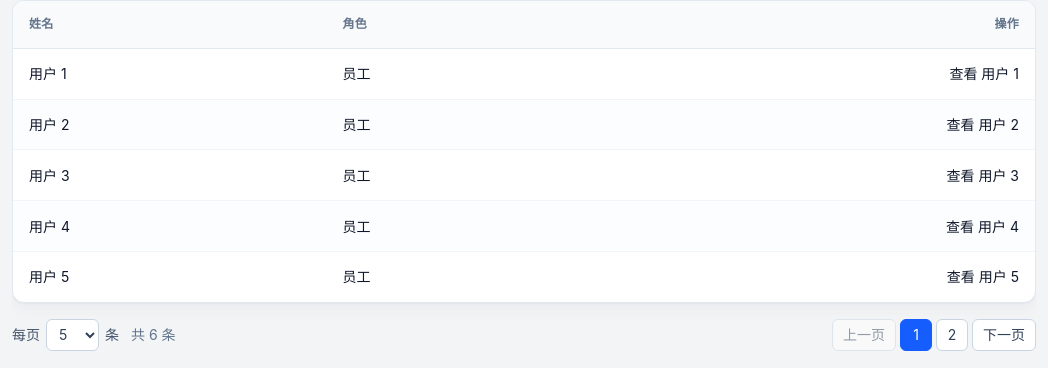
Table › paginates rows through the built-in pagination controls
Expected: the text "用户 1" is shown, [29,65,67,82]
Expected: the text "用户 6" is not shown
Click the button "下一页" at (1004, 335), box [972,319,1036,351]
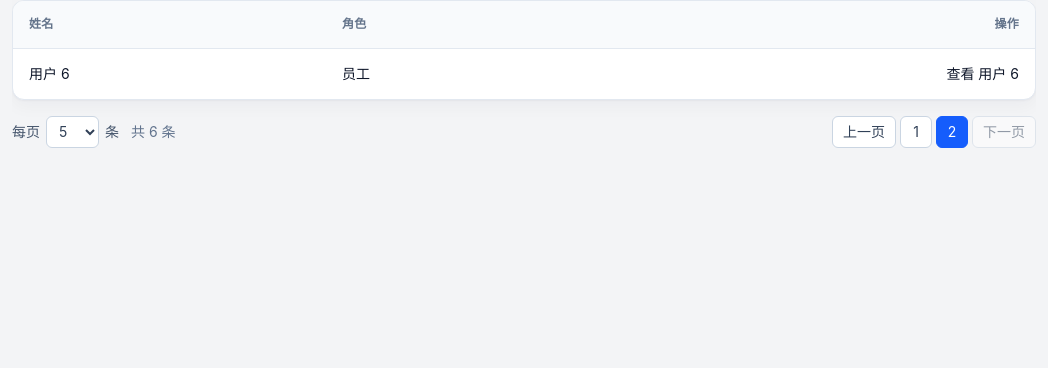
Now the text "用户 6" is shown, box [29,65,70,82]
Now the text "用户 1" is gone
